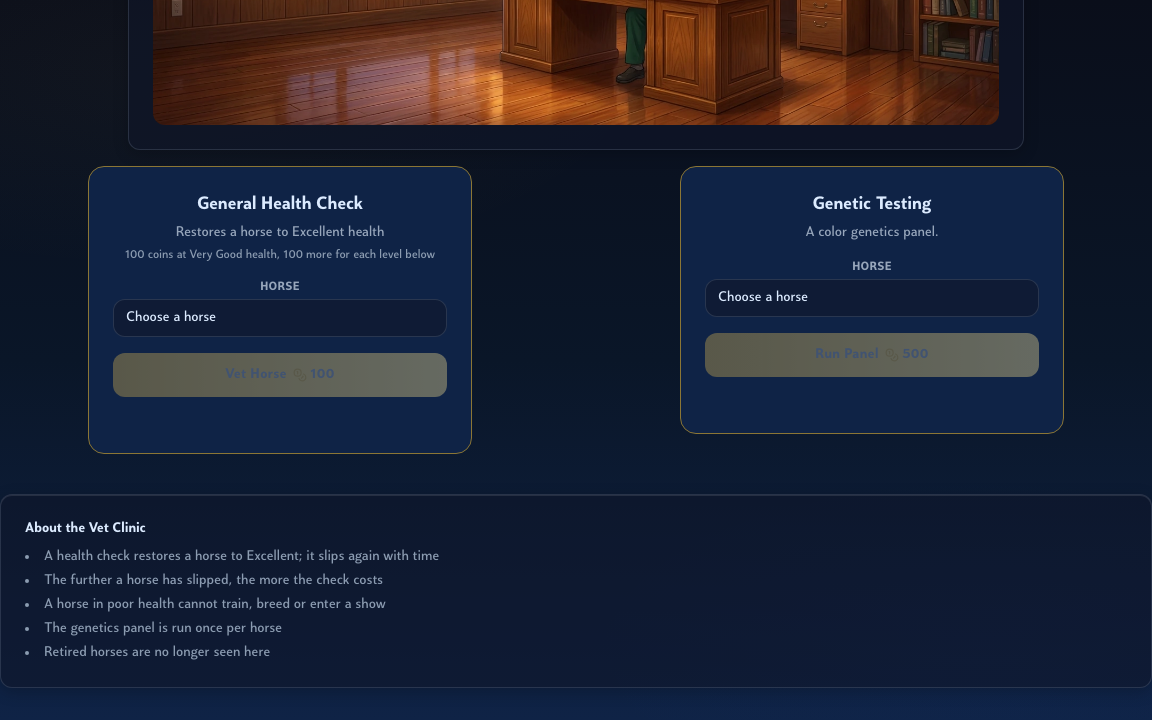
Scenario: VeterinarianPage (Equoria-7dmzp) › shows the fee of whichever horse is chosen on the Vet Horse button
The image size is (1152, 720).
(page scrolled)
Select "Due Mare (Bad)" in the dropdown labelled "Horse" below "Restores a horse to Excellent health" at (280, 318), box [113, 299, 447, 337]
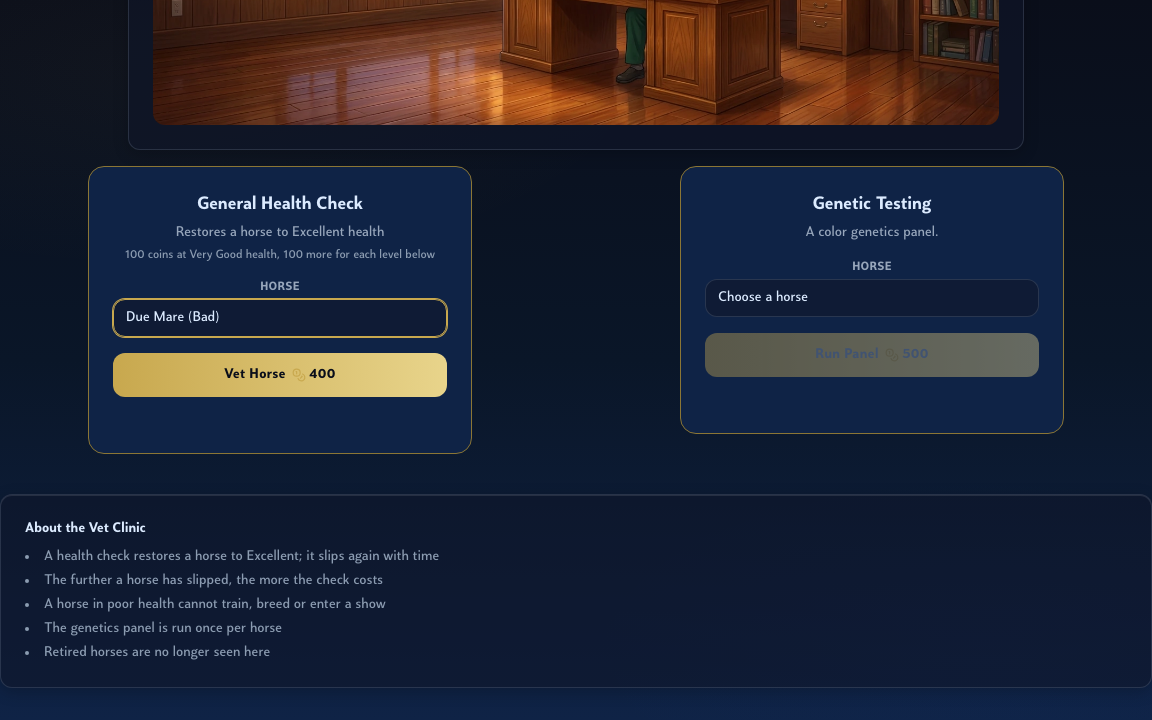
Now the button "Vet Horse 400" is shown, box [113, 353, 447, 397]
Select "Tested Mare (Very Good)" in the dropdown labelled "Horse" below "Restores a horse to Excellent health" at (280, 318), box [113, 299, 447, 337]
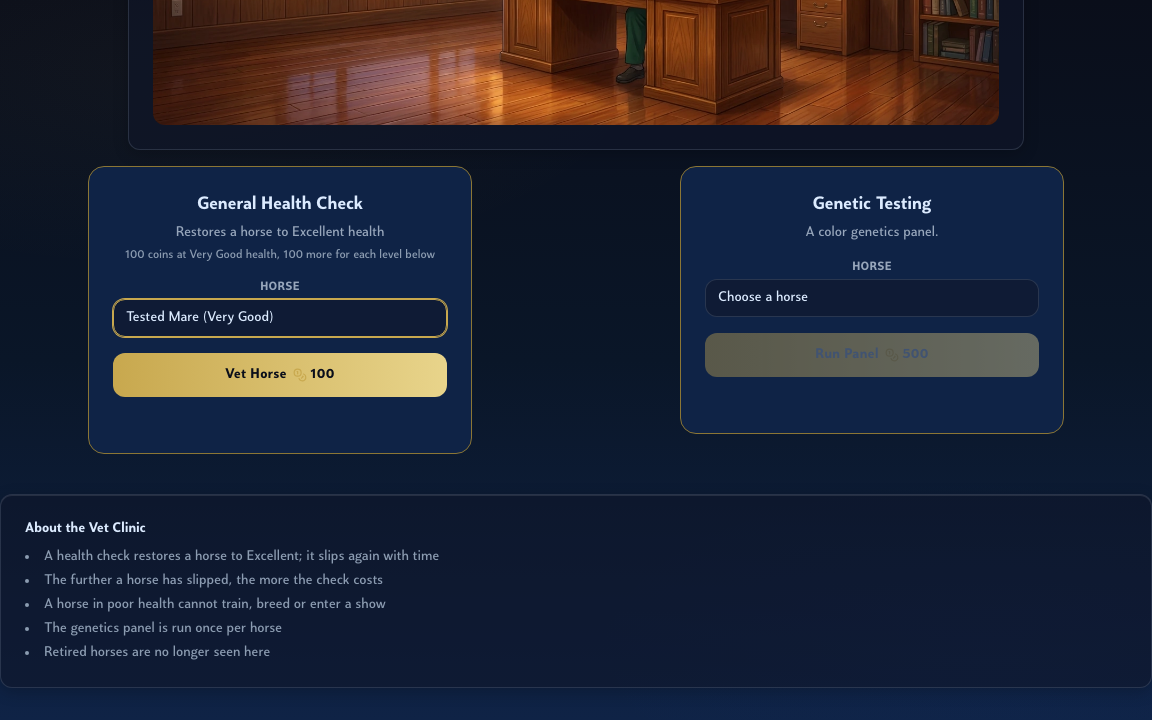
Now the button "Vet Horse 100" is shown, box [113, 353, 447, 397]
Now the button "Vet Horse 100" no longer shows "400", box [113, 353, 447, 397]
